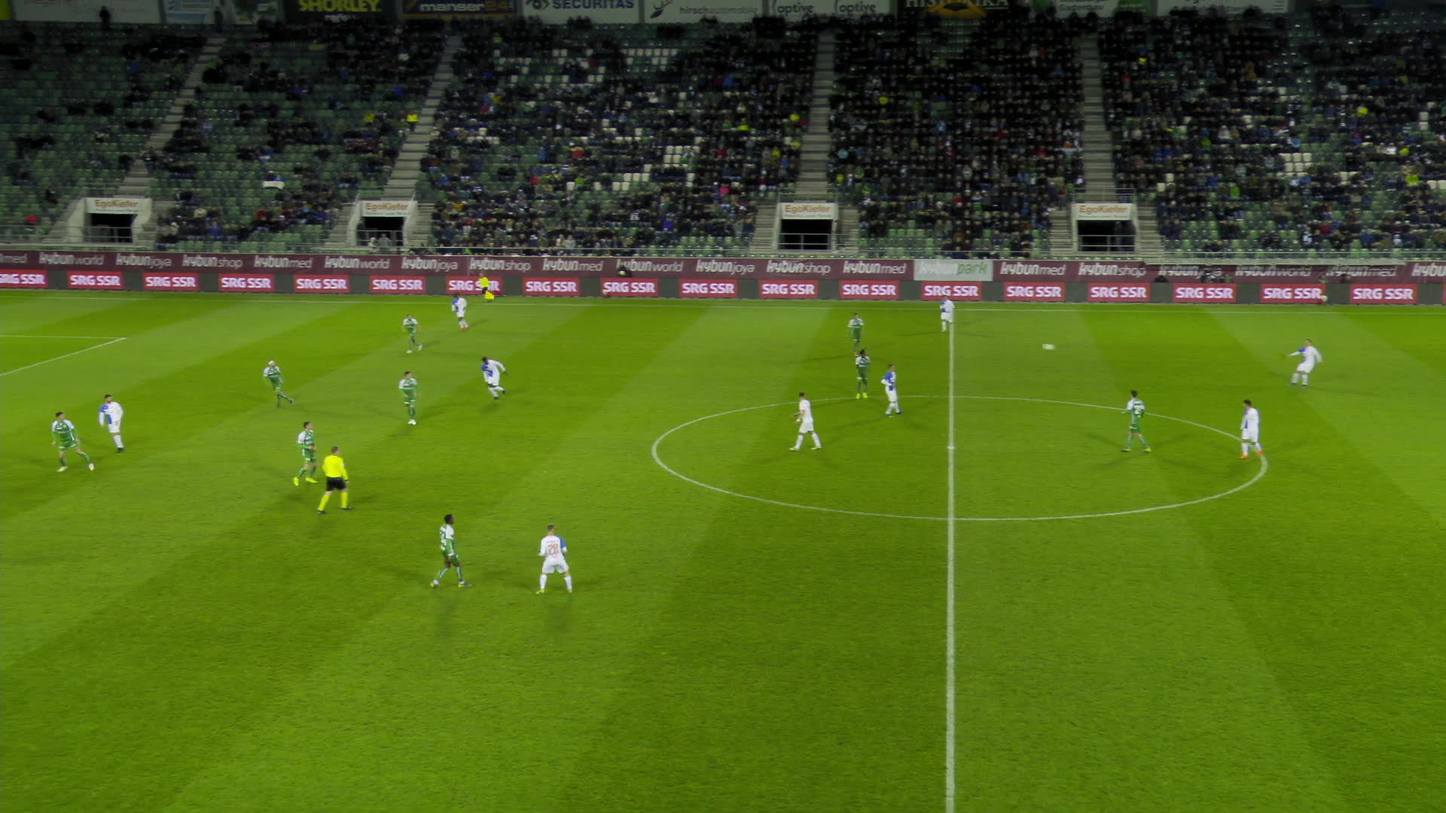ball: (1043, 343, 1055, 350)
player: (429, 512, 468, 590), (535, 523, 573, 596), (50, 411, 96, 471), (1120, 388, 1151, 453), (787, 392, 821, 451), (1284, 338, 1322, 386), (96, 393, 124, 452), (291, 421, 316, 487), (1237, 397, 1263, 459), (261, 360, 294, 408), (398, 370, 421, 425), (880, 364, 903, 417), (480, 355, 505, 400), (401, 313, 423, 352), (845, 312, 862, 356), (448, 293, 468, 330), (855, 349, 870, 398), (940, 295, 954, 332)
referee: (315, 443, 350, 512), (476, 269, 494, 303)
